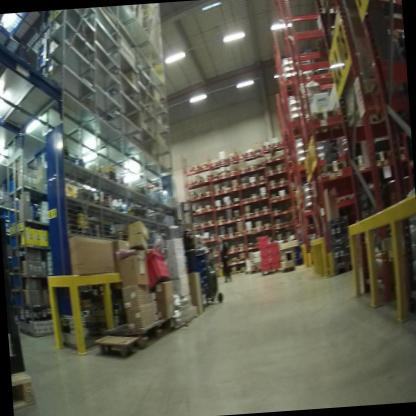pallet: (99, 315, 177, 358), (84, 330, 140, 367), (303, 104, 337, 142), (13, 374, 44, 414), (314, 158, 347, 185), (368, 143, 390, 168), (390, 139, 409, 165), (348, 150, 367, 174), (334, 190, 353, 208), (259, 265, 279, 278), (244, 264, 261, 278), (279, 264, 297, 276)
small_load_carrier: (143, 248, 177, 289), (255, 234, 270, 247), (268, 259, 281, 273), (257, 244, 270, 256), (269, 251, 280, 265), (269, 241, 279, 255), (260, 253, 270, 265), (262, 263, 269, 274)
